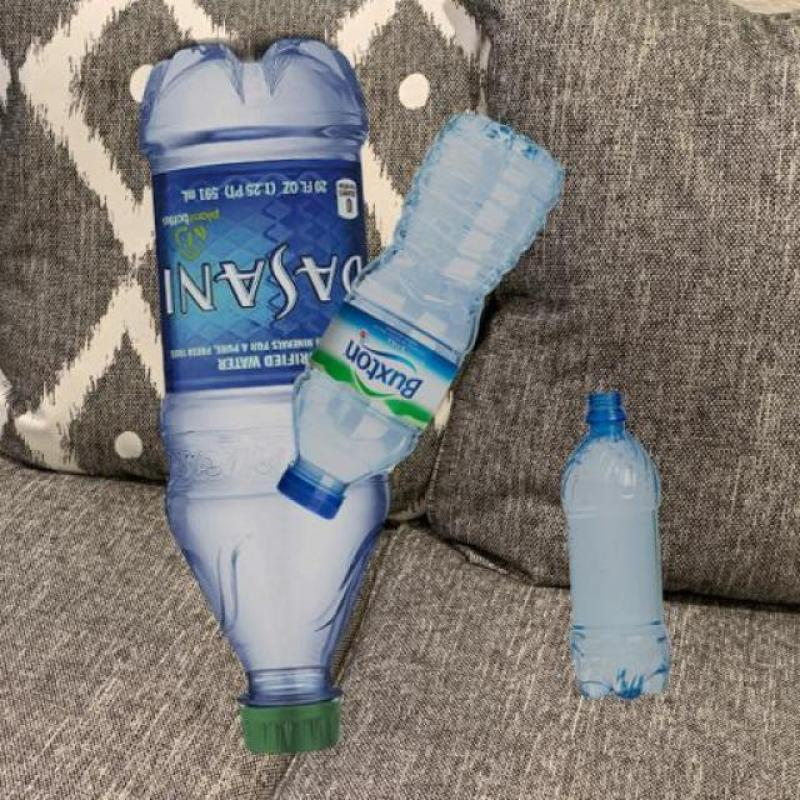botella: (144, 39, 395, 753), (276, 110, 568, 521), (560, 392, 674, 702)
